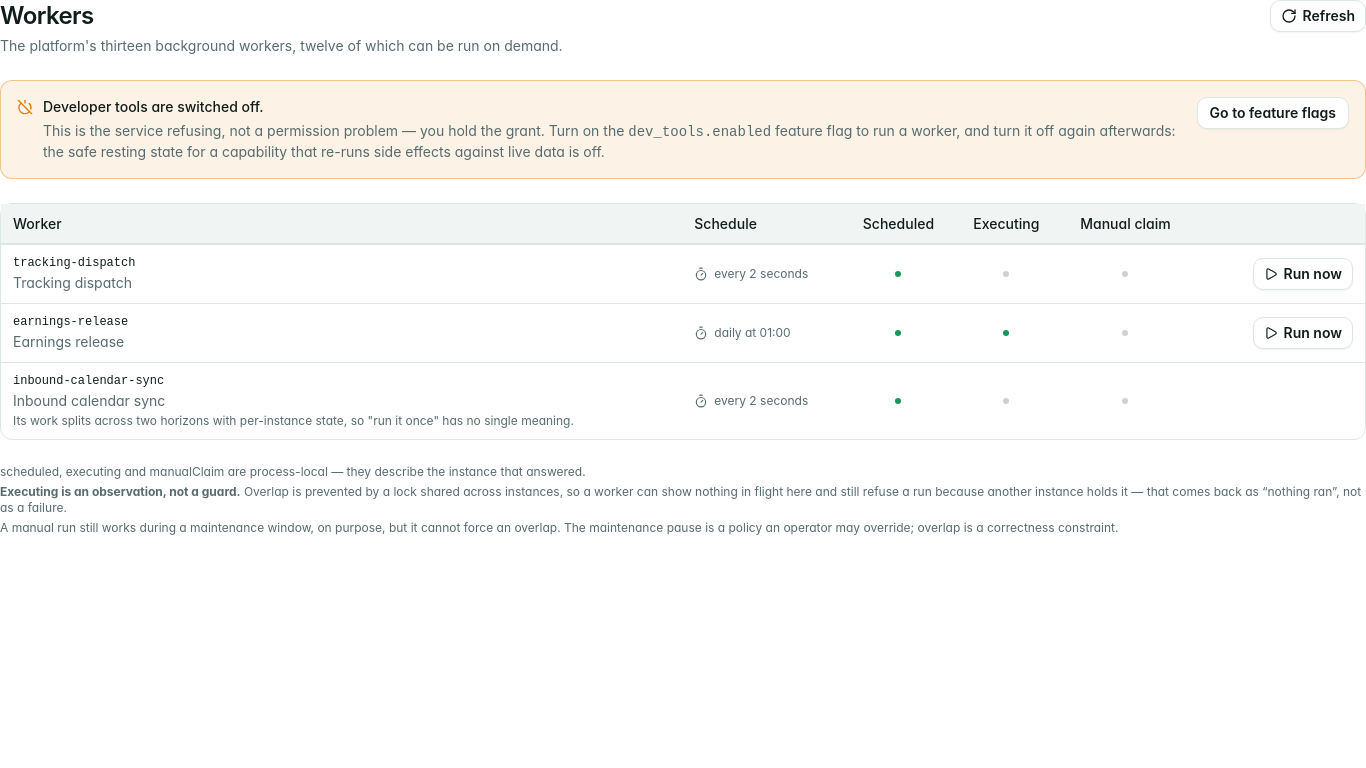
Test: running a worker › reads a busy verdict off details.platformCode, not error.code
Expected: the text "tracking-dispatch" is shown, left=13, top=256, right=135, bottom=270
Click the button "Run now" in the row of "tracking-dispatch" at {"x": 1303, "y": 274}, box left=1253, top=258, right=1353, bottom=290
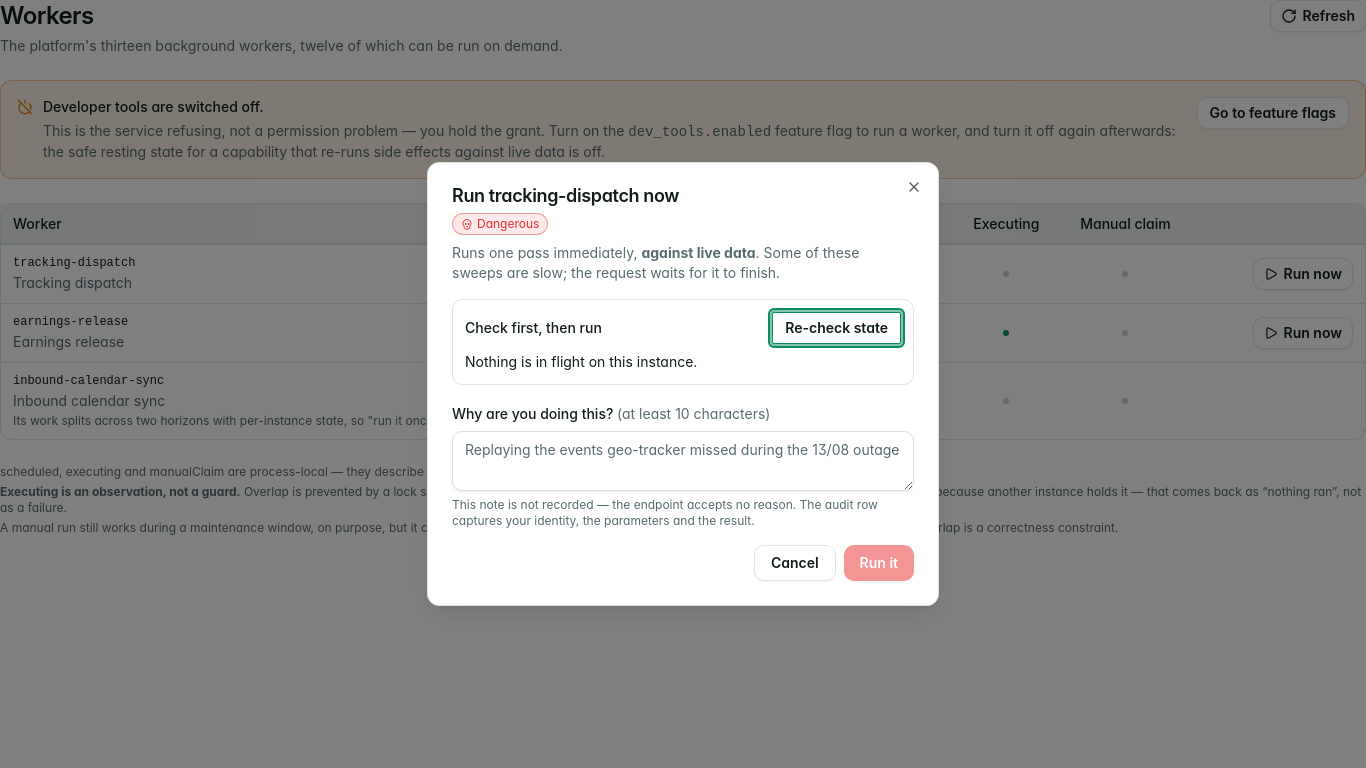
Type "Draining it" into the text box labelled "Why are you doing this? (at least 10 characters)" at {"x": 683, "y": 461}, box left=452, top=431, right=914, bottom=491
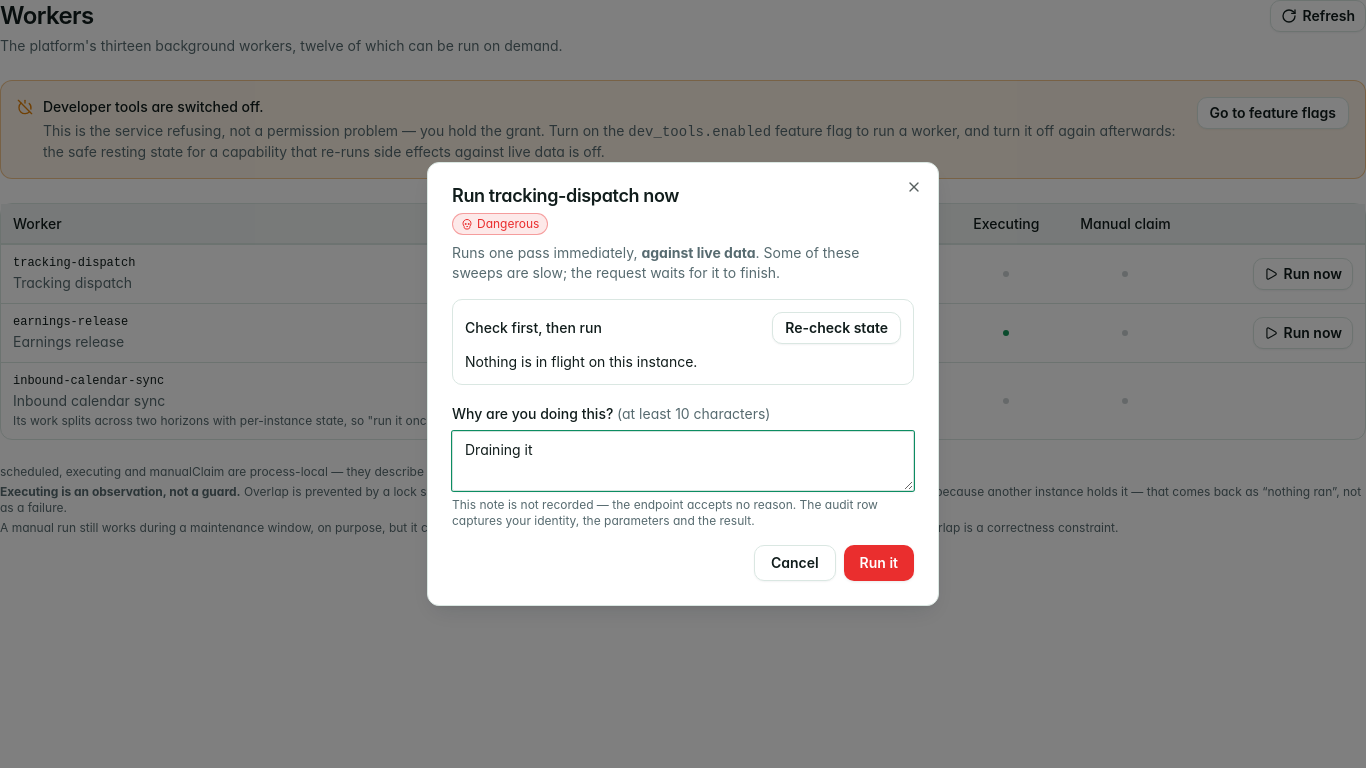
Click the button "Run it" at {"x": 879, "y": 563}, box left=844, top=545, right=914, bottom=581
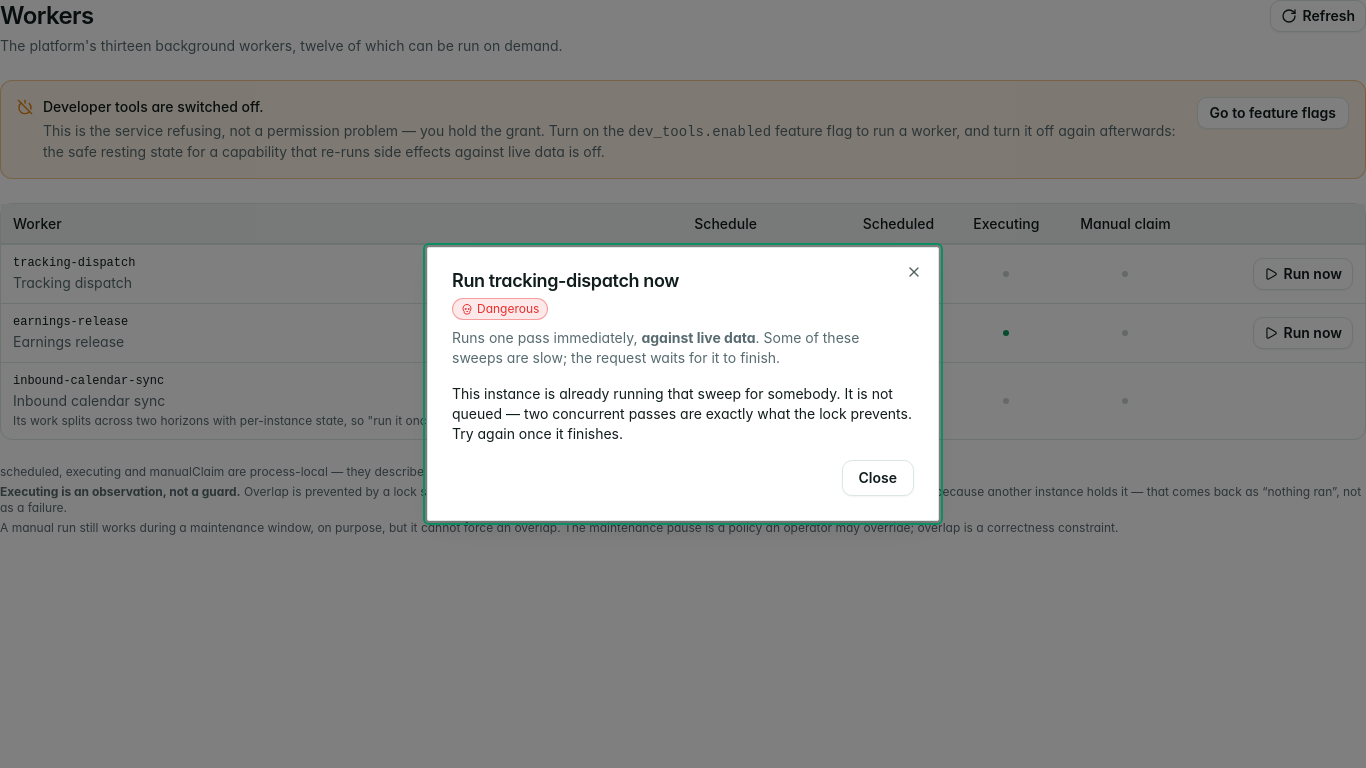
Expected: the text "already running that sweep" is shown, left=452, top=385, right=912, bottom=442
